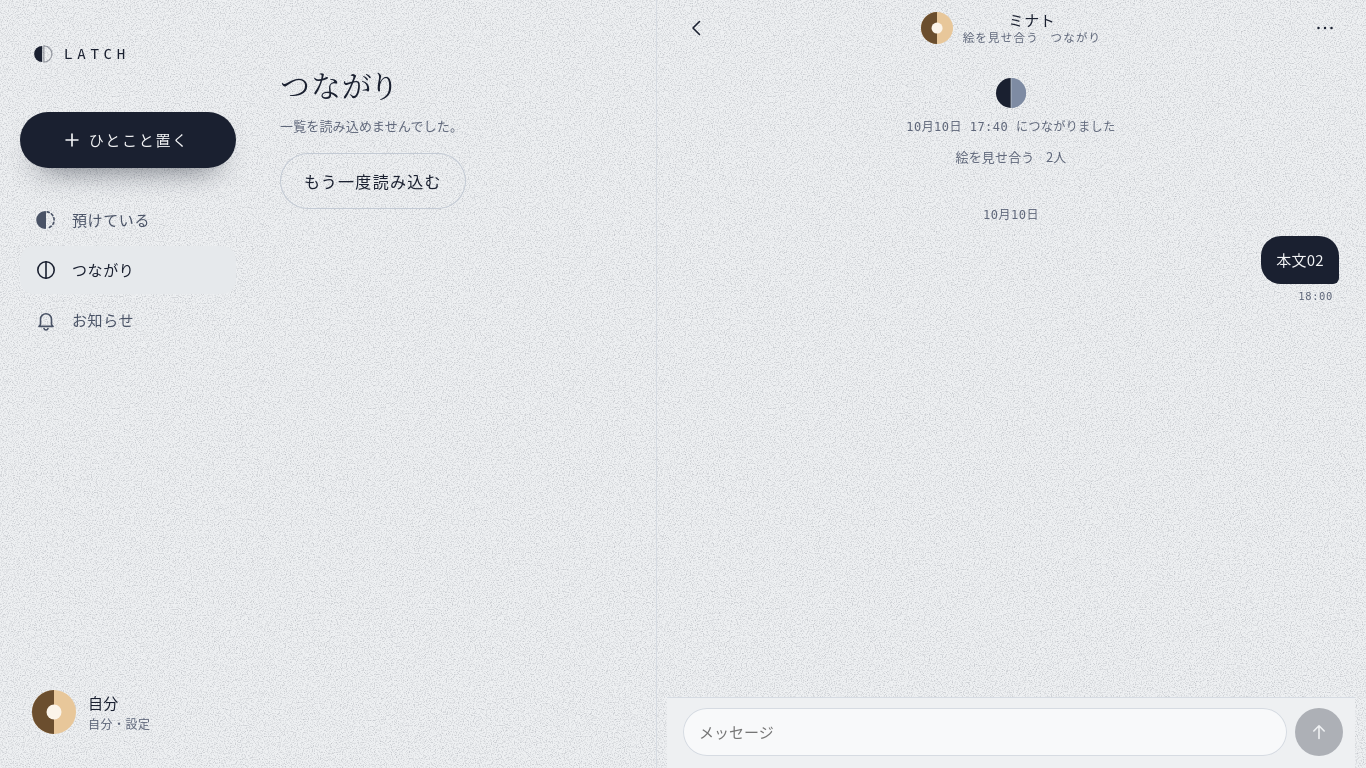
Test case: Chat の送信・受信・既読 › 500で失敗表示と[もう一度送る]が出て・再送は同じclient_id
Expected: the text "本文02" is shown, [1261, 236, 1339, 284]
Type "失敗する" into the text box labelled "メッセージ" at point(985, 732), box [683, 708, 1287, 756]
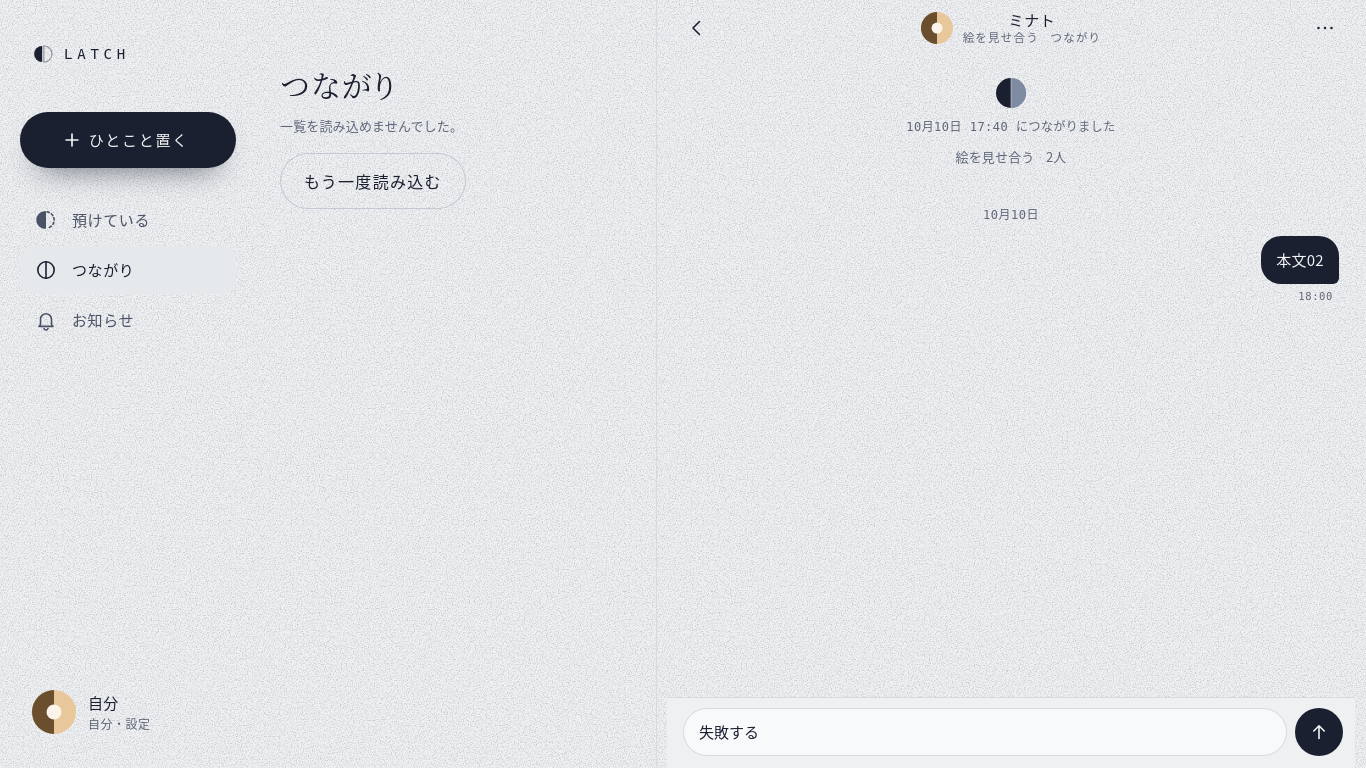
Click the button named "送る" at point(1319, 732), box [1295, 708, 1343, 756]
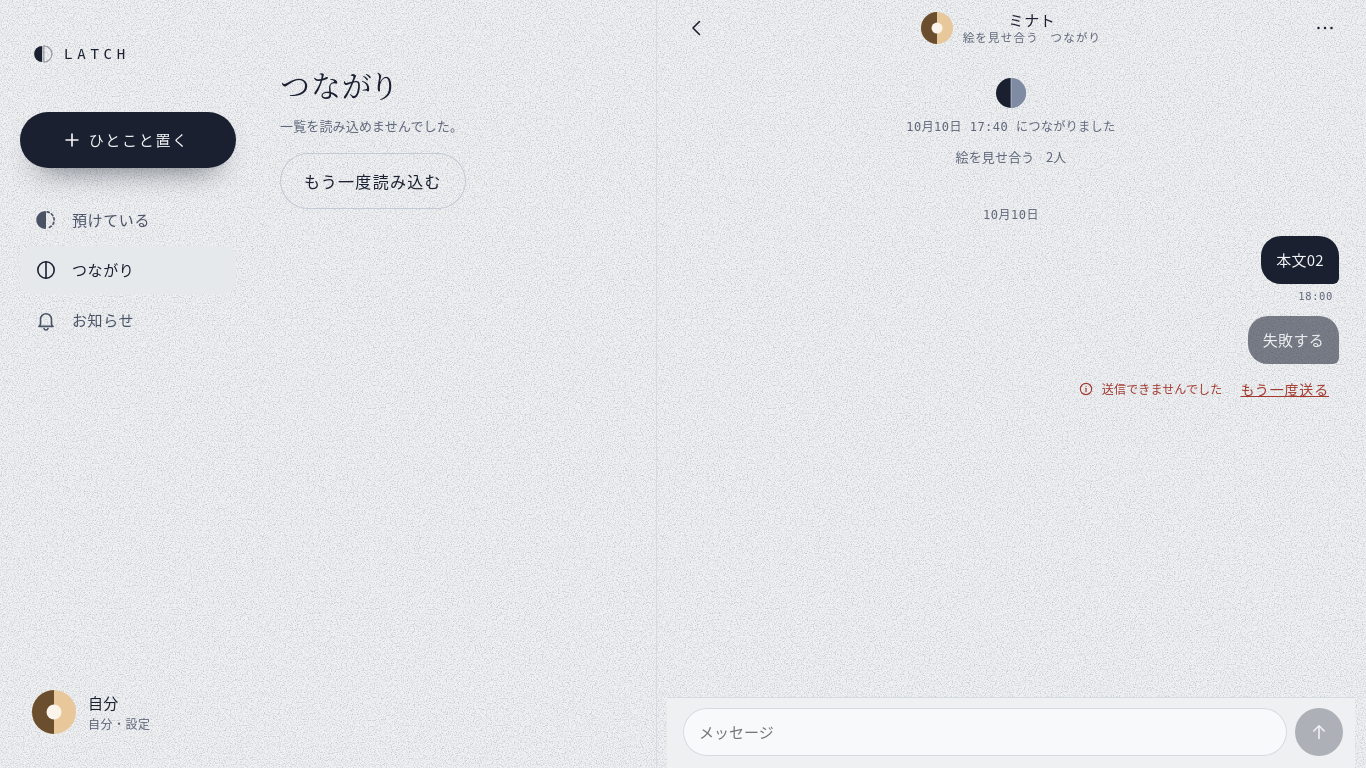
Click the button "もう一度送る" at point(1285, 389), box [1230, 367, 1339, 411]
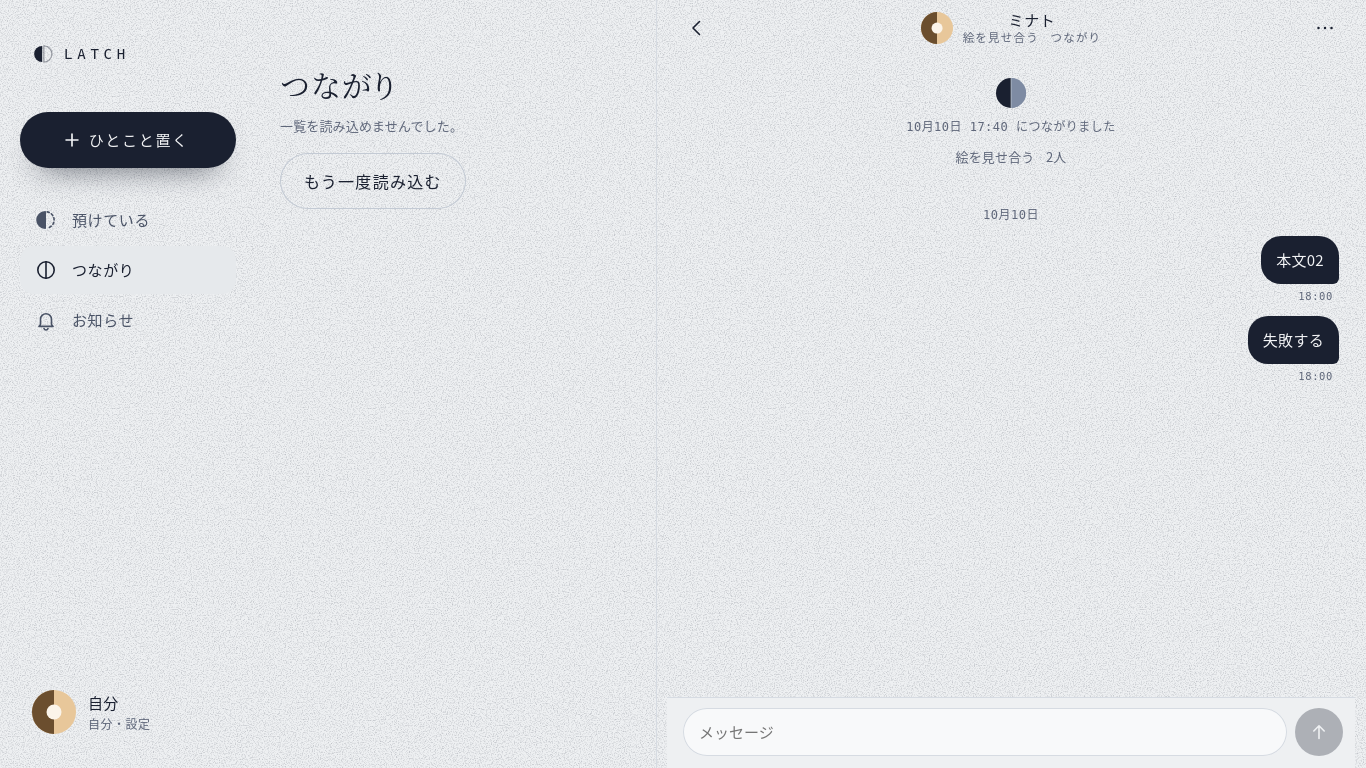
Expected: the text "送信できませんでした" is gone
